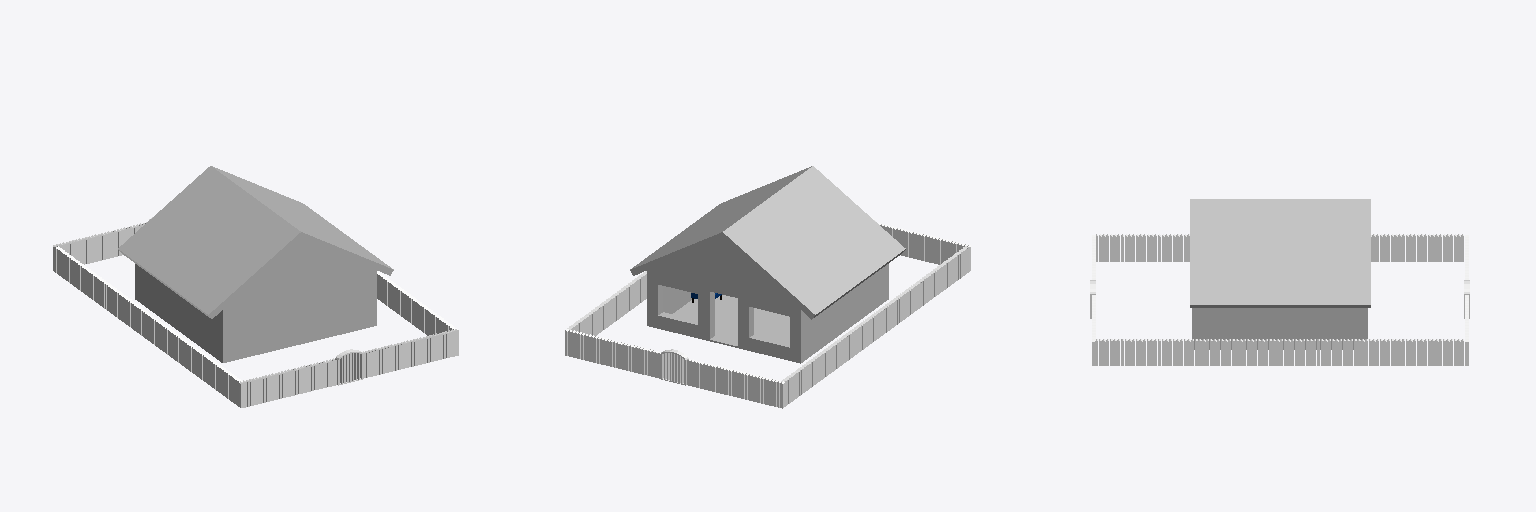
3 renders of one model, left to right at view 1: azimuth 30°, elevation 25°; view 2: azimuth 150°, elevation 25°; view 3: azimuth 270°, elevation 25°, orthographic.
Visible parts, largest first — view 1: Cube.003, Cube.004, Cube.001; view 2: Cube.003, Cube.004, Cube.001; view 3: Cube.003, Cube.001, Cube.004.
Part boxes in pixels (left/top/right/bottom): Cube.003: left=118, top=166, right=393, bottom=318; Cube.004: left=135, top=237, right=376, bottom=362; Cube.001: left=53, top=217, right=458, bottom=407; Cube.003: left=630, top=166, right=905, bottom=319; Cube.004: left=647, top=238, right=888, bottom=363; Cube.001: left=565, top=217, right=970, bottom=408; Cube.003: left=1190, top=199, right=1370, bottom=307; Cube.001: left=1090, top=234, right=1469, bottom=365; Cube.004: left=1192, top=308, right=1367, bottom=349.
Size of the model in its own units: 15.27 by 7.66 by 23.01.
6 materials, 1 textured.